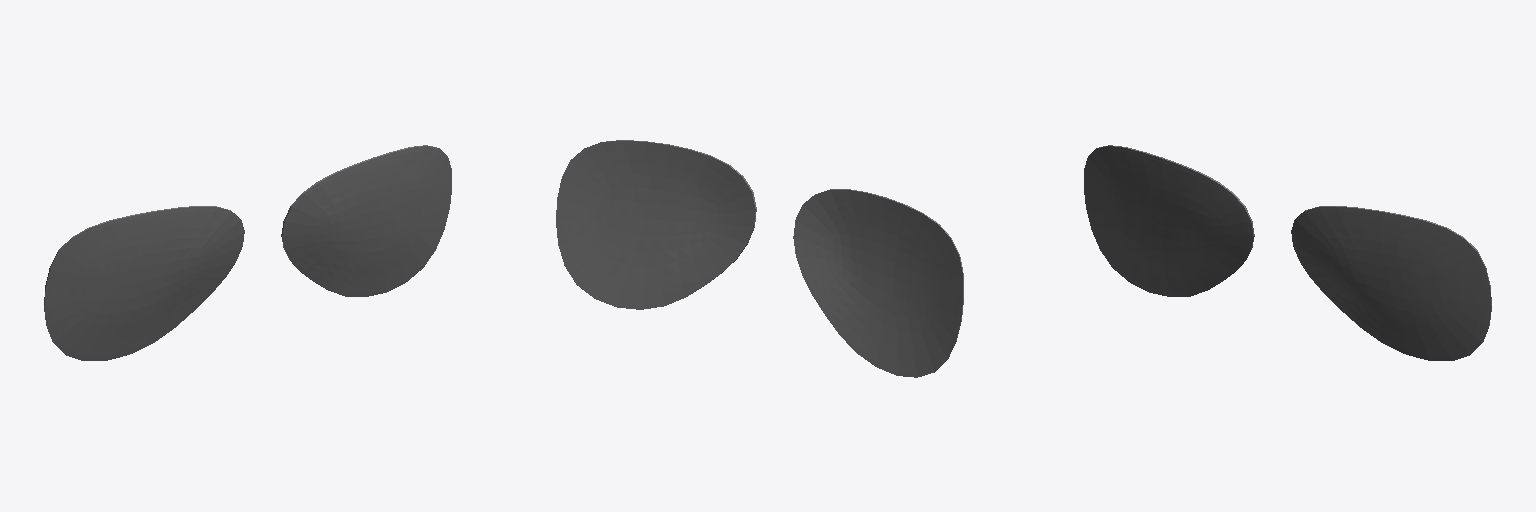
Rendered from DG_Sunglasses_Lenses.obj.
3 views of the same model, side by side, from view 1: azimuth 30°, elevation 25°; view 2: azimuth 150°, elevation 25°; view 3: azimuth 330°, elevation 25° (orthographic).
Parts seen in each view (by area): view 1: Goggles:polySurface344; view 2: Goggles:polySurface344; view 3: Goggles:polySurface344.
Boxes of the visible parts, <box> form: Goggles:polySurface344: <box>44,145,451,360</box>; Goggles:polySurface344: <box>556,140,963,377</box>; Goggles:polySurface344: <box>1084,145,1491,360</box>.
Bounding box in the file's own units: 13.56 × 4.98 × 1.41.